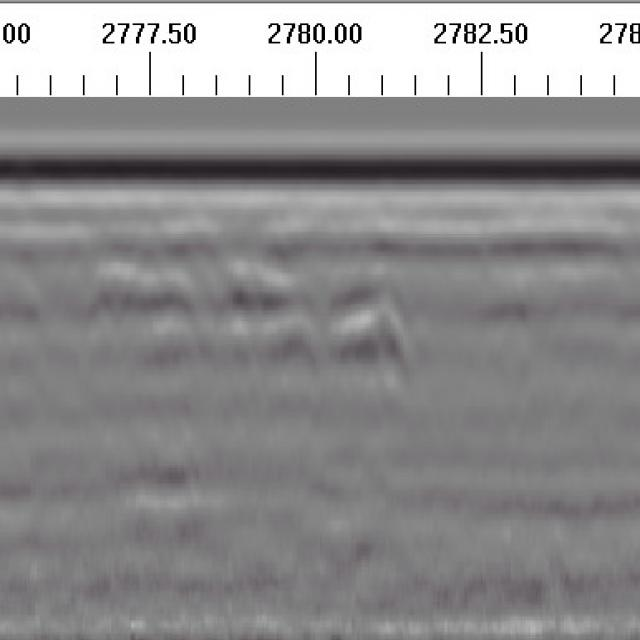loose: (84, 270, 419, 377)
